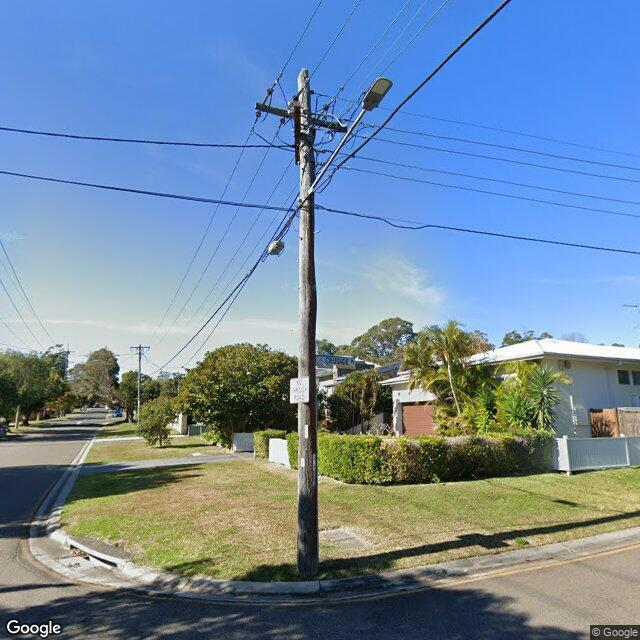crossarm: (254, 101, 350, 136), (292, 103, 302, 165), (129, 346, 151, 351)
streetlight: (307, 77, 393, 195)
timber-pole: (297, 68, 319, 577), (138, 344, 142, 436)
